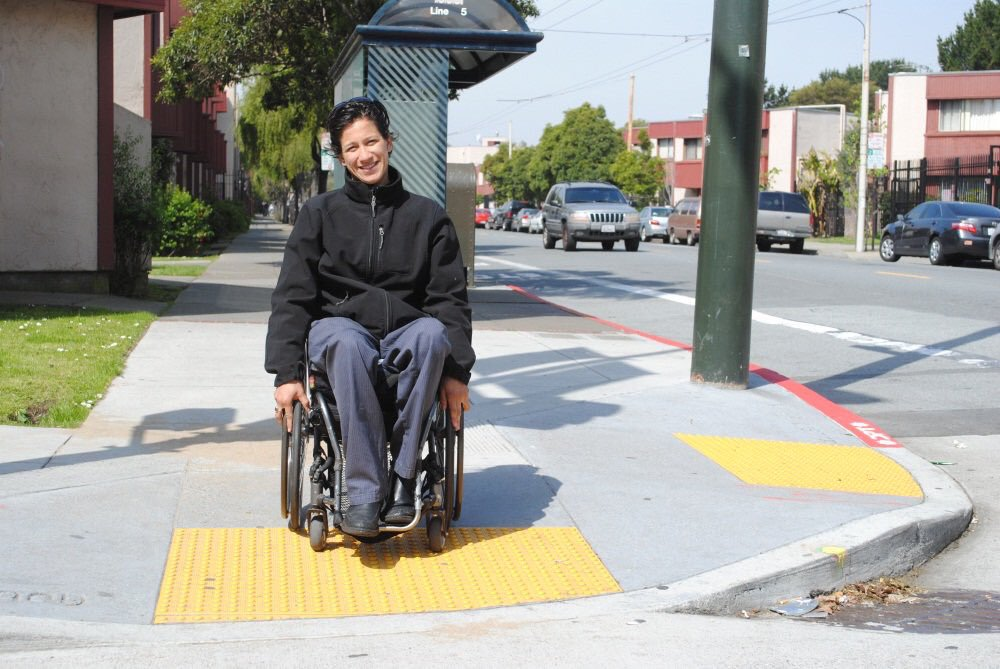ramp: (53, 405, 635, 647), (665, 389, 980, 566)
